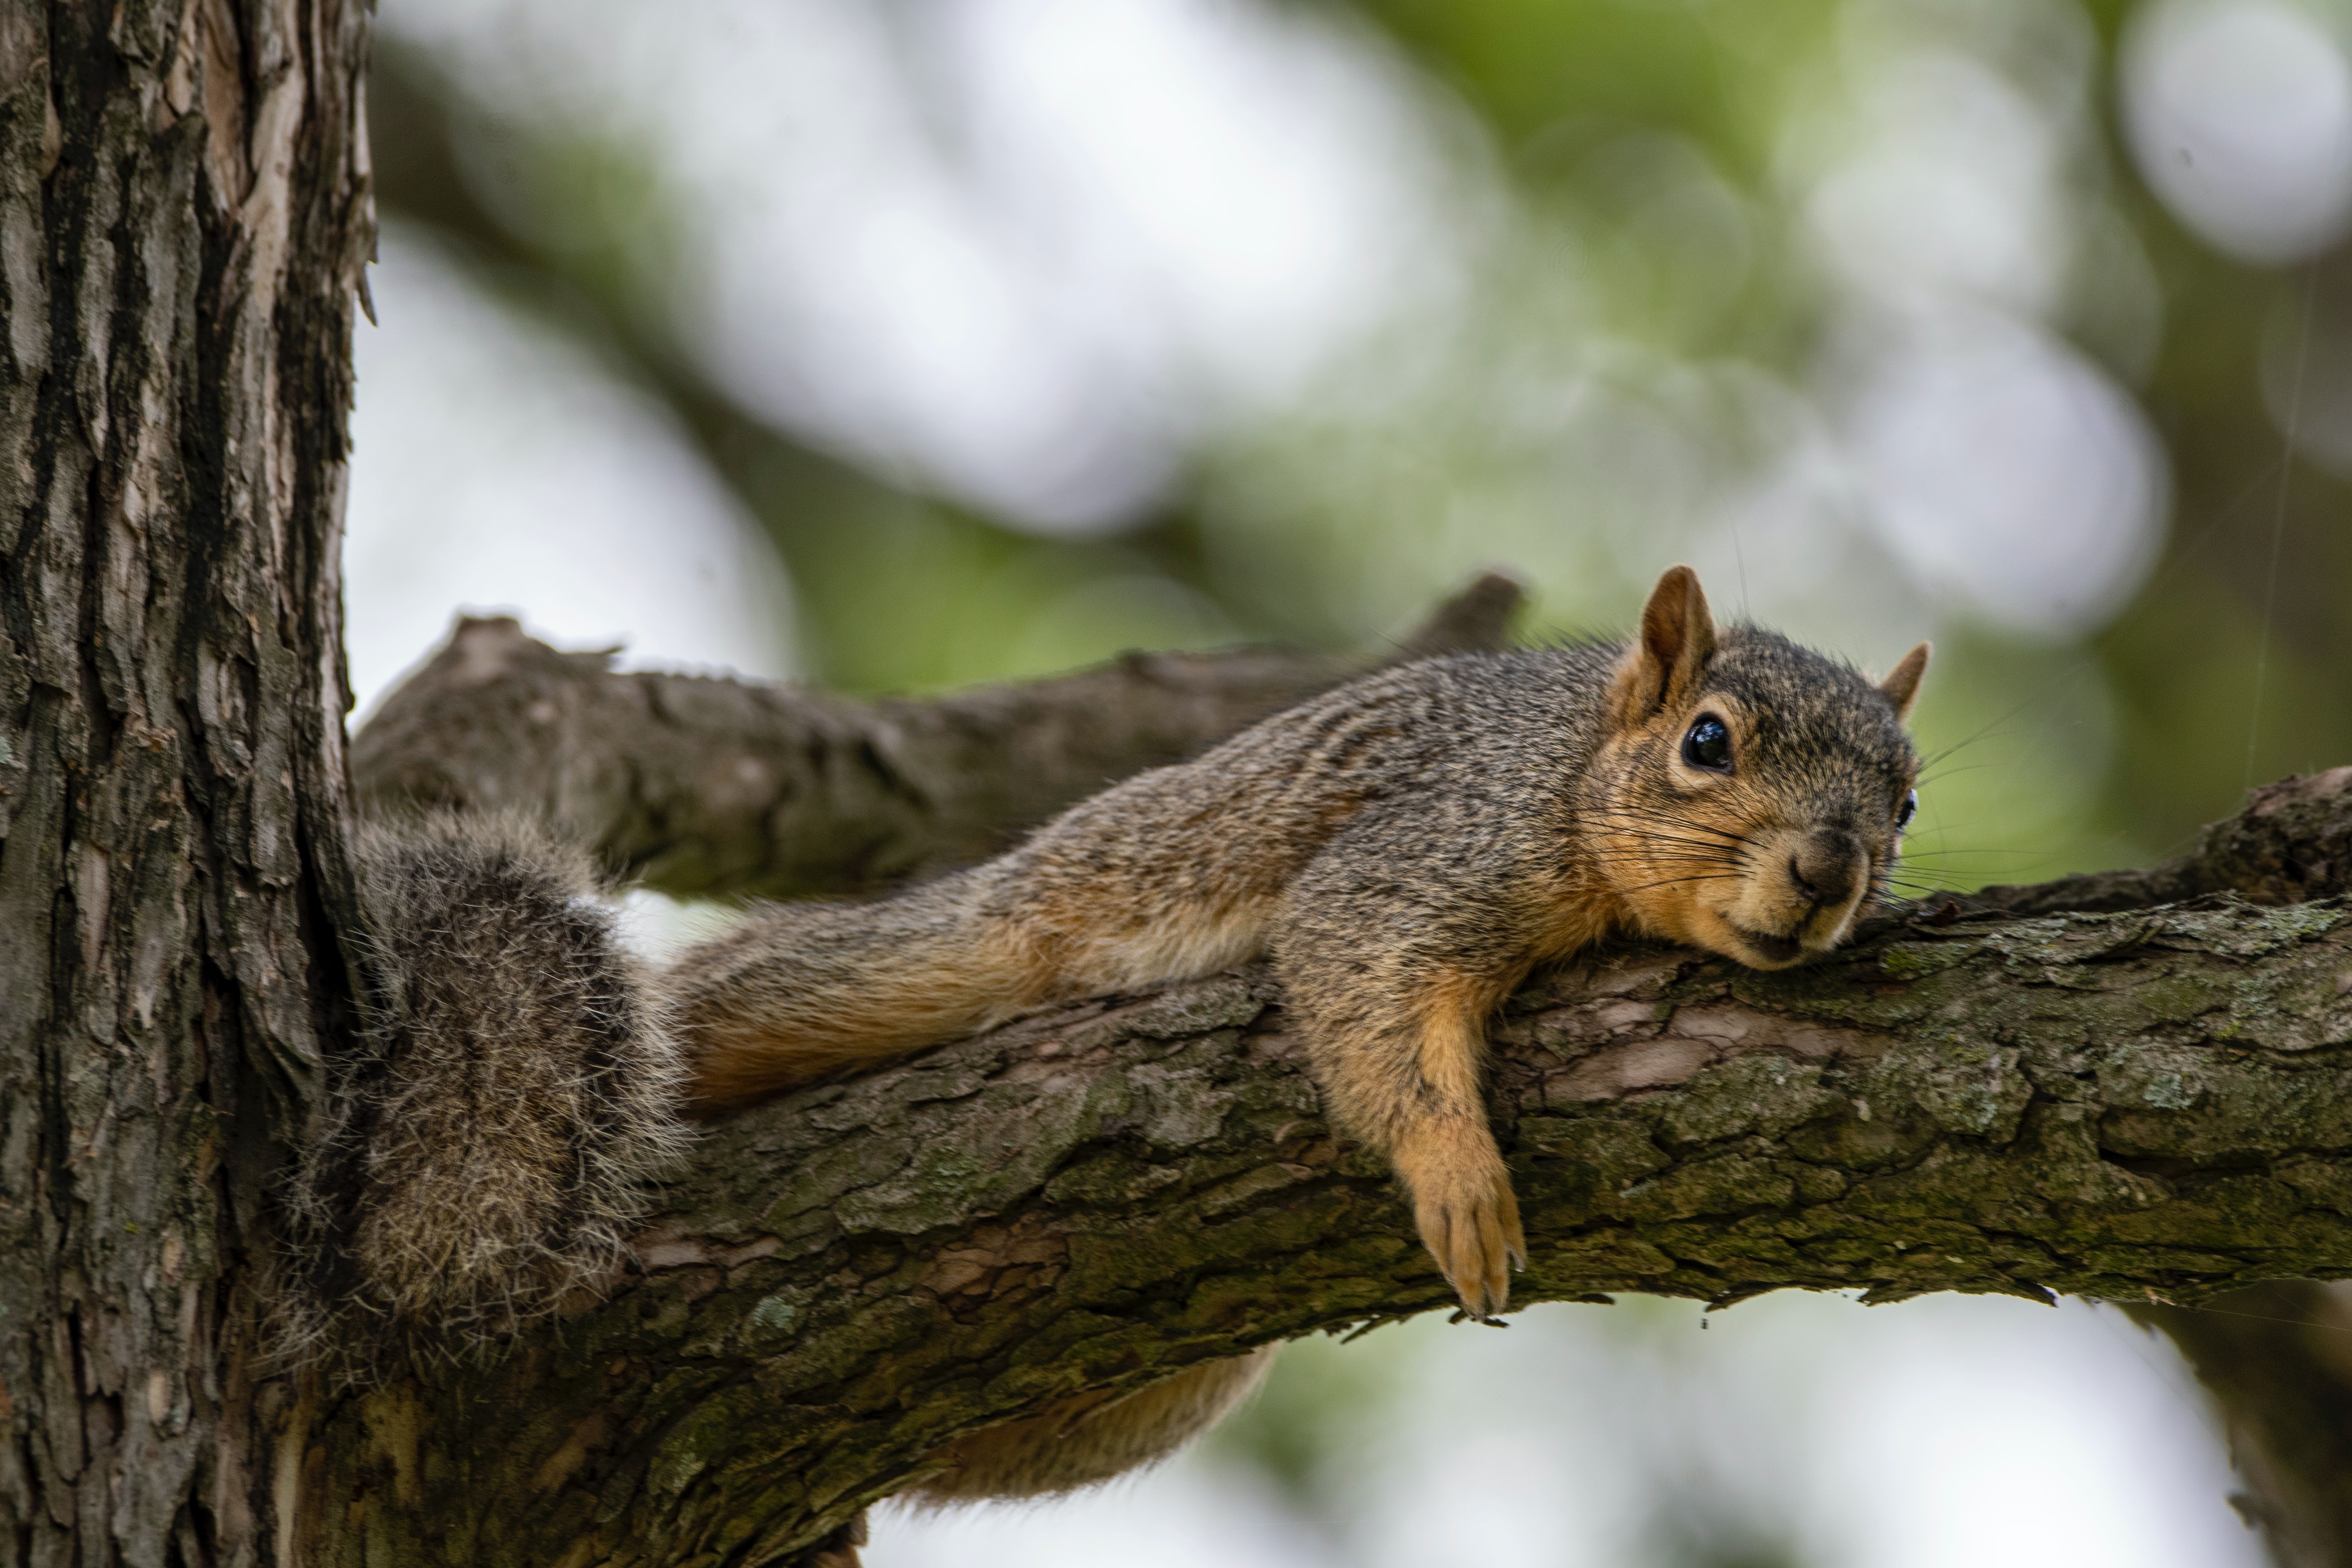squirrel: (375, 558, 1957, 1328)
